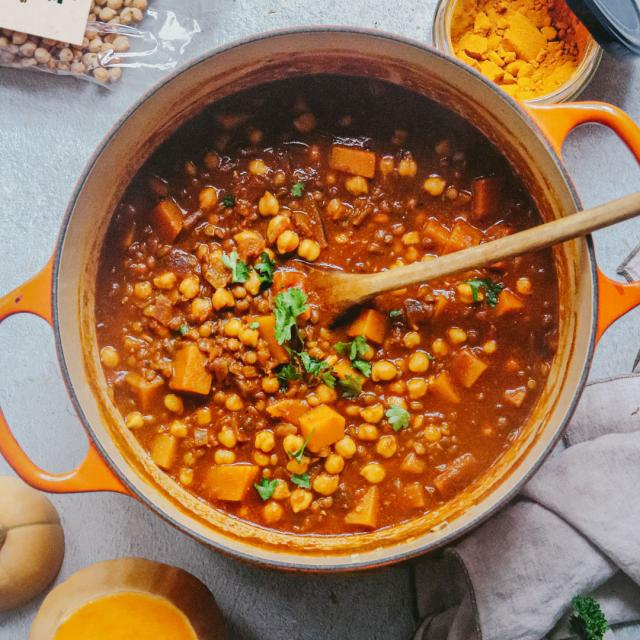lentejas: (92, 70, 572, 552)
